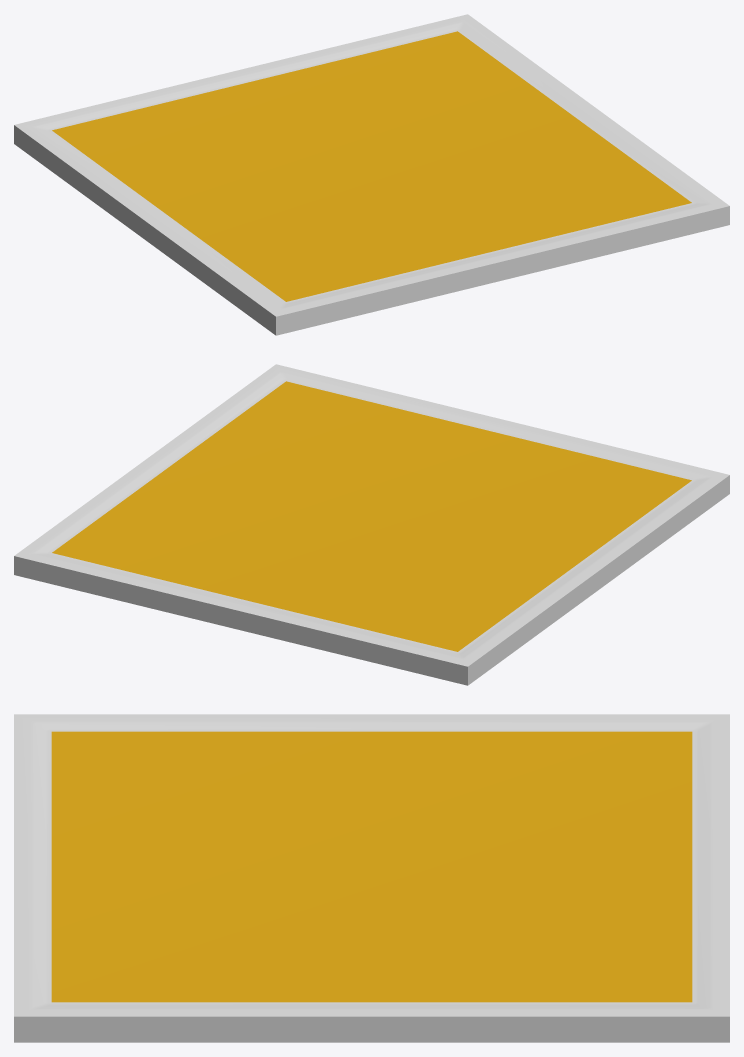
File: Platform.fbx
3 renders of one model, top to bottom at view 1: azimuth 30°, elevation 25°; view 2: azimuth 150°, elevation 25°; view 3: azimuth 270°, elevation 25°, orthographic. The views are drawn at different scales.
Visible parts, largest first — view 1: Cube; view 2: Cube; view 3: Cube.
Boxes of the visible parts, box(x1,y1,x2,y2) form: Cube: box(14, 14, 729, 335); Cube: box(14, 364, 729, 685); Cube: box(14, 714, 729, 1042).
Size of the model in its own units: 1000 by 40.08 by 1000.
